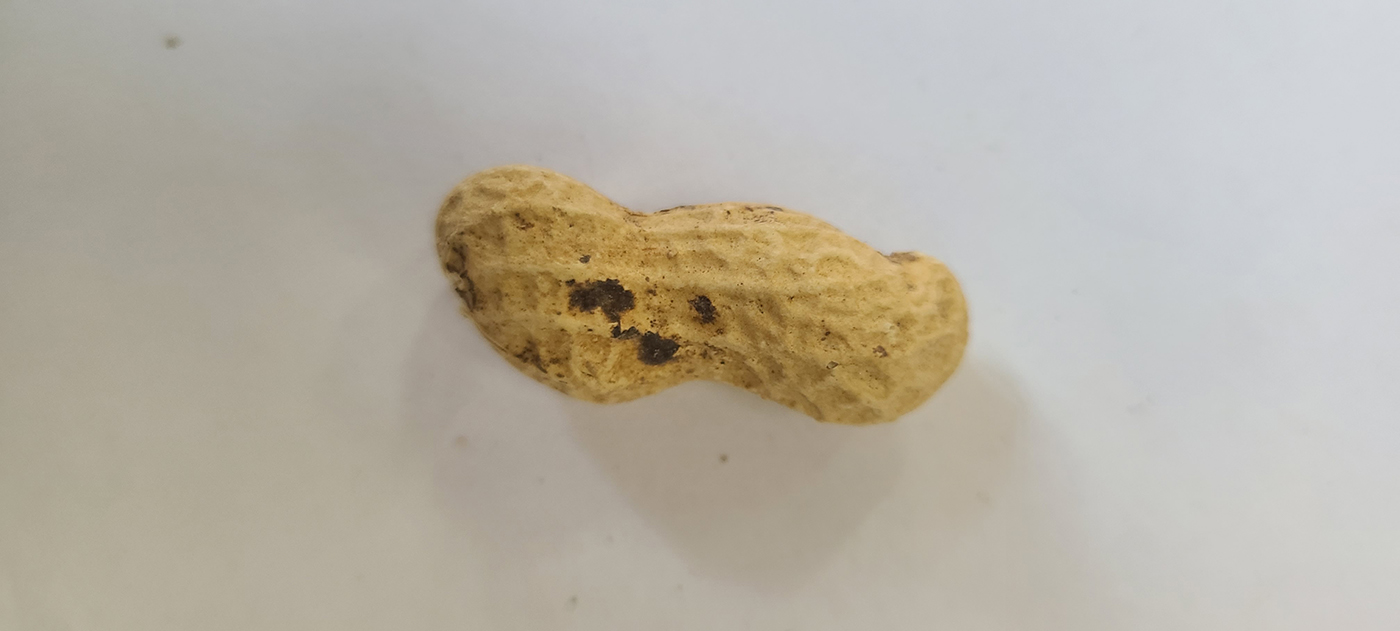h: (435, 159, 971, 432)
